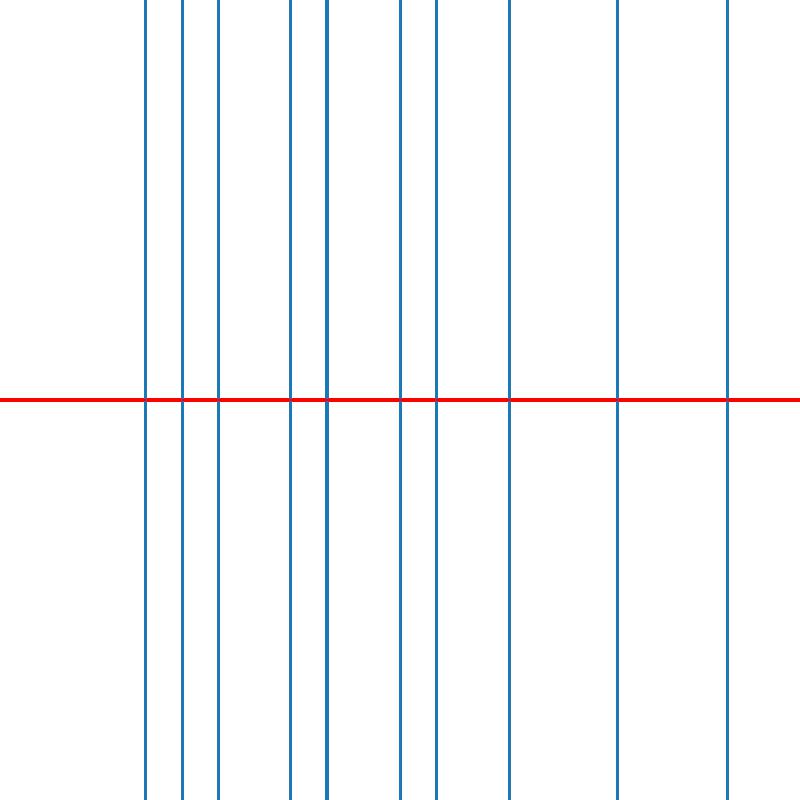root: (432, 396, 440, 404), (141, 396, 149, 404), (505, 396, 512, 404), (287, 396, 294, 404), (723, 396, 730, 404), (614, 396, 621, 404), (214, 396, 221, 404), (396, 396, 403, 404), (178, 396, 185, 404), (323, 396, 330, 404)
